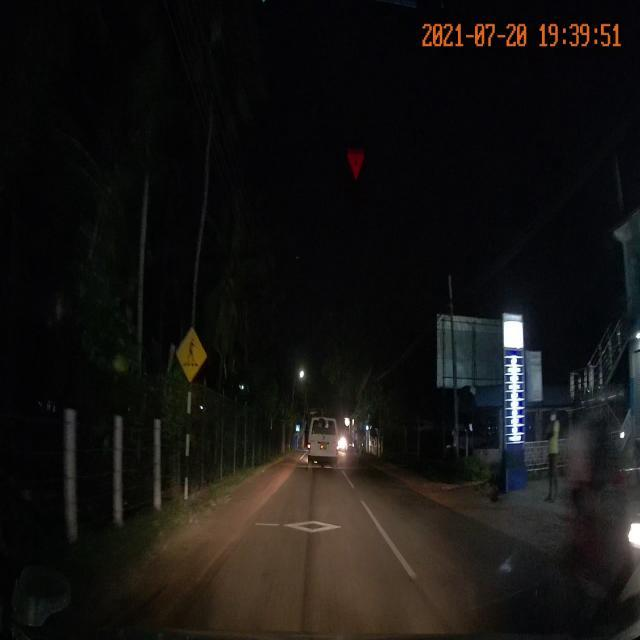diamond: (239, 516, 386, 535)
